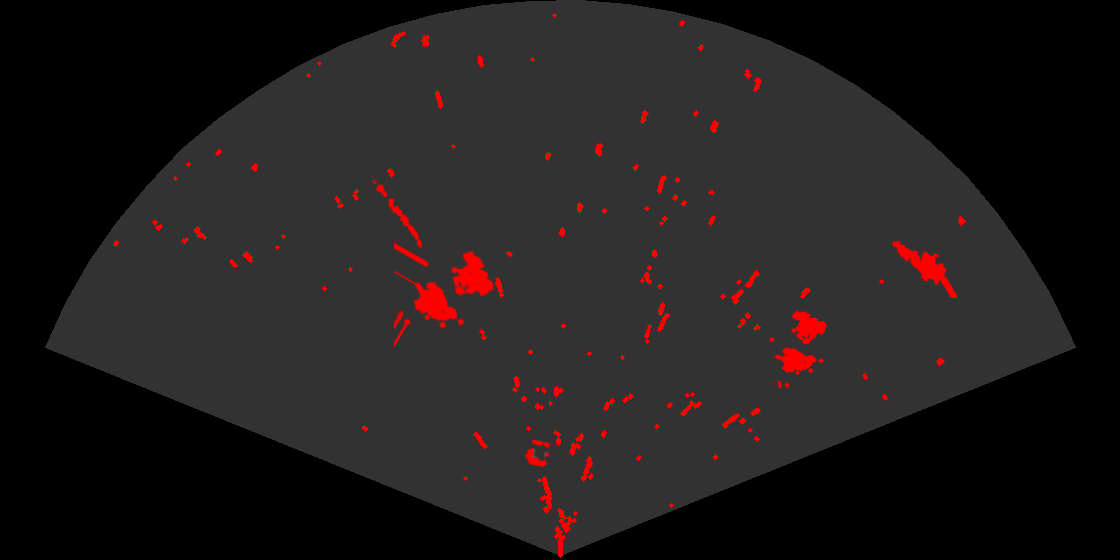ball: (523, 438, 552, 469)
cage: (394, 241, 496, 349), (770, 309, 828, 388)
chain: (369, 174, 424, 250)
frogman: (890, 239, 957, 298)
